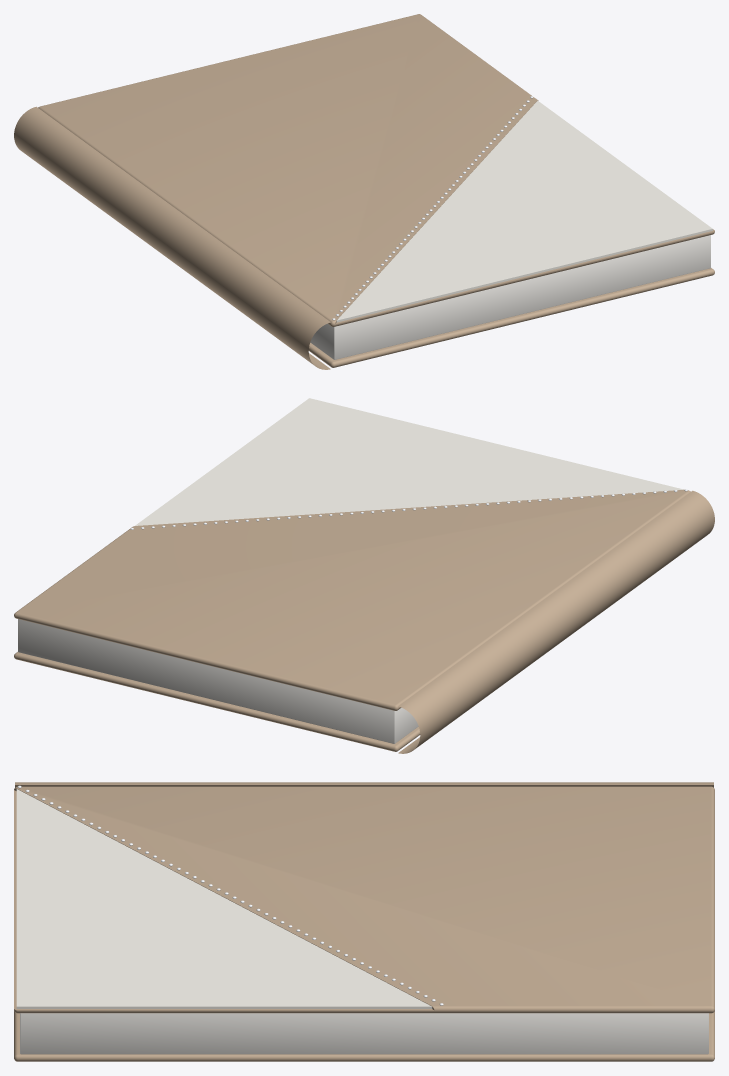
Rendered from oblique--portrait.glb.
The picture shows the model from 3 angles, top to bottom: view 1: azimuth 30°, elevation 25°; view 2: azimuth 150°, elevation 25°; view 3: azimuth 270°, elevation 25°; orthographic projection. The views are drawn at different scales.
Visible parts, largest first — view 1: CoverFront, Band, Spine, Pages, CoverBack; view 2: CoverFront, Band, Spine, Pages, CoverBack; view 3: CoverFront, Band, Pages, CoverBack, Spine, Crystal.
Boxes of the visible parts, x1,y1,x2,y2 form: CoverFront: (38, 14, 714, 326); Band: (336, 100, 712, 322); Spine: (14, 106, 330, 369); Pages: (310, 235, 710, 359); CoverBack: (308, 268, 714, 367); CoverFront: (14, 489, 690, 710); Band: (135, 398, 683, 525); Spine: (398, 490, 714, 753); Pages: (18, 619, 418, 743); CoverBack: (14, 652, 420, 751); CoverFront: (14, 786, 714, 1013); Band: (16, 789, 432, 1008); Pages: (20, 1013, 708, 1054); CoverBack: (14, 1011, 714, 1061); Spine: (15, 782, 713, 787); Crystal: (17, 785, 443, 1005).
Size of the model in its own units: 0.3179 by 0.0361 by 0.4.
